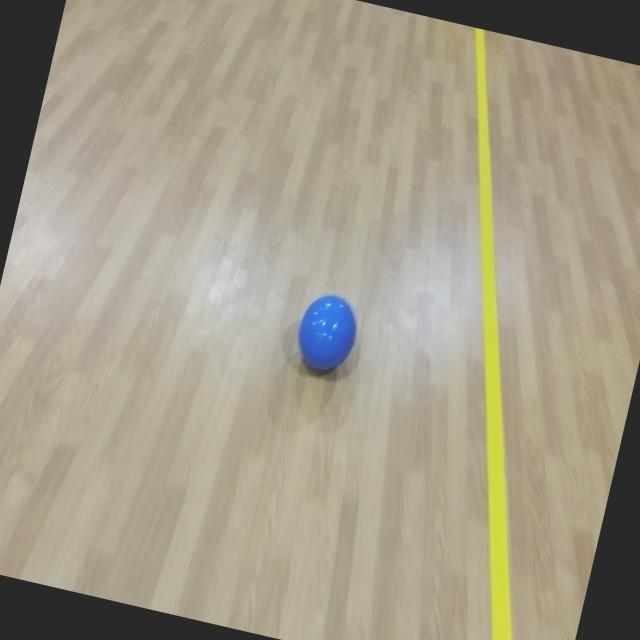blue_ball: (292, 289, 362, 377)
